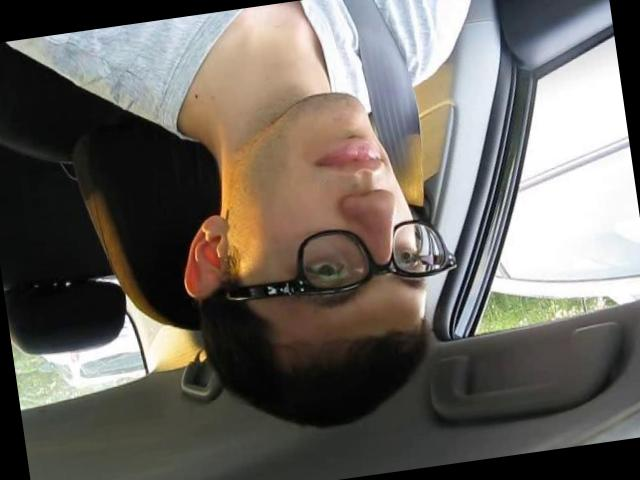eye_open: (301, 248, 361, 286), (387, 238, 427, 274)
face: (218, 82, 430, 338)
